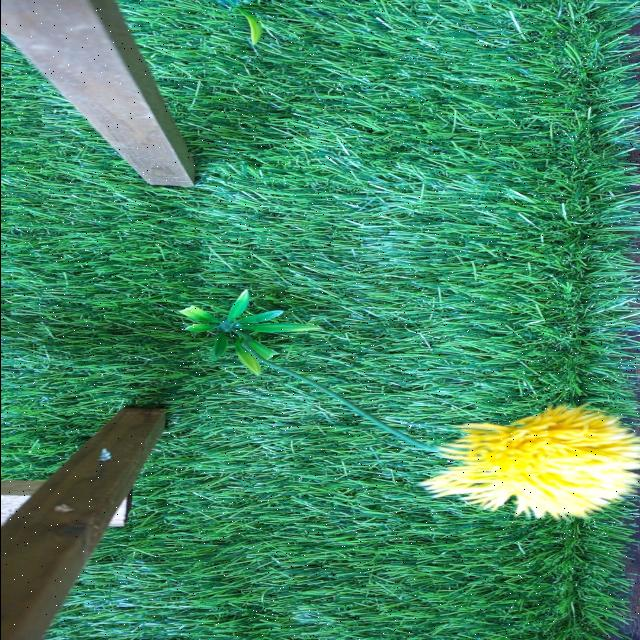base: (176, 290, 318, 372)
flower: (421, 411, 640, 517)
